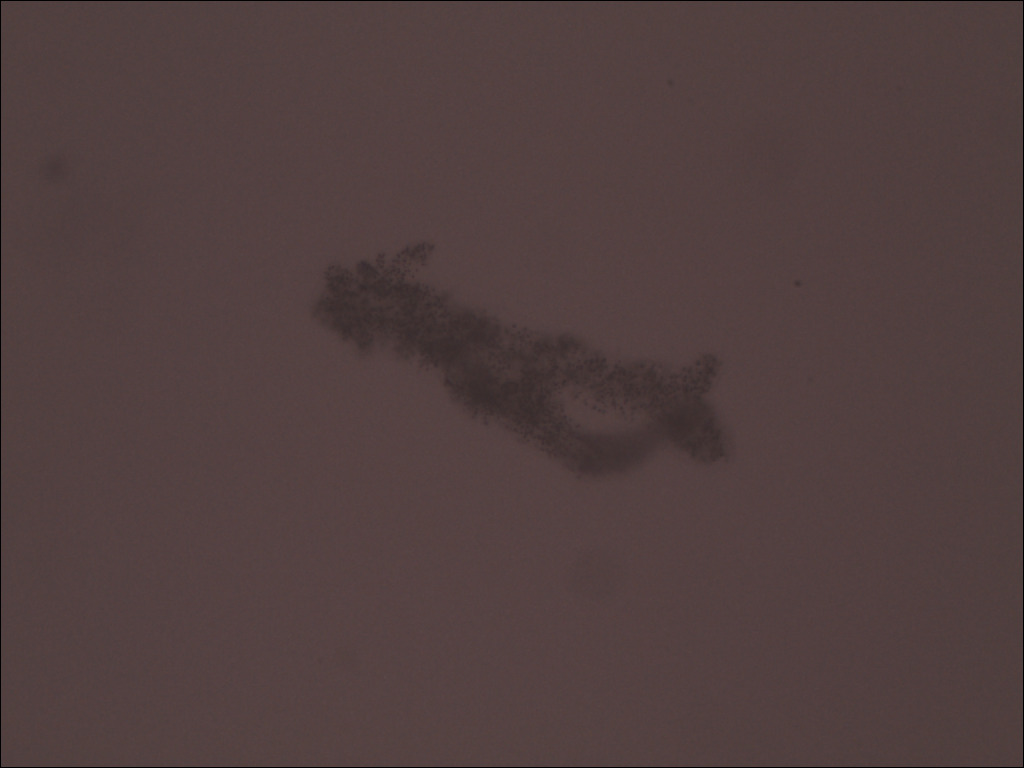amoeba: (302, 228, 753, 490)
